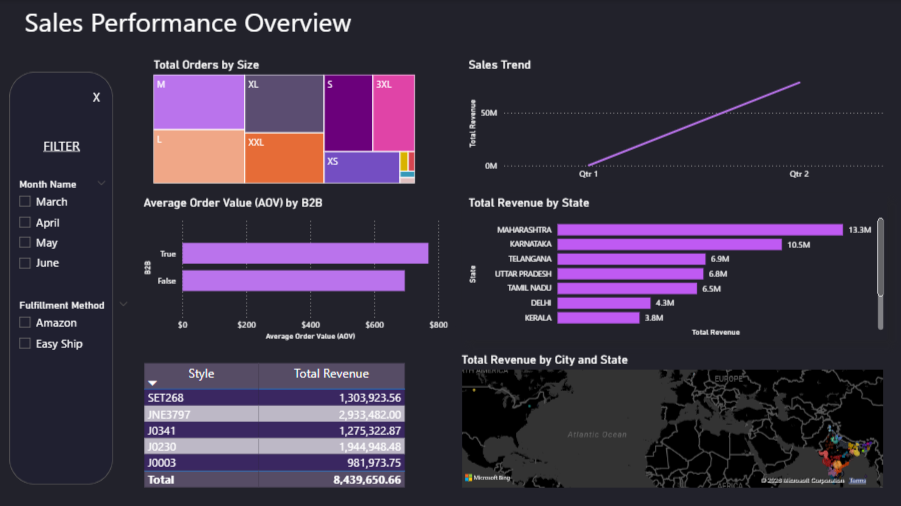

What the dashboard file says about the page in this screenshot:
{"tool":"powerbi","page":{"name":"Executive Sales Overview","canvas":[1280,720],"ordinal":0},"visuals":[{"type":"shape","box":[14.2,102,147.4,585.4],"z":0},{"type":"slicer","fields":{"Values":["DateTable.Month Name"]},"box":[15,248,148.8,151.7],"z":1000},{"type":"slicer","fields":{"Values":["data.Fulfillment Method"]},"box":[15,419.5,180,99.2],"z":2000},{"type":"textbox","box":[31.7,188.3,115,41.7],"z":3000},{"type":"map","fields":{"Category":["data.City","data.State"],"Series":["data.State"],"Size":["data.Total Revenue"]},"box":[650.6,462,608,235.3],"z":4000},{"type":"shape","box":[640.6,462,627.9,38.3],"z":5000},{"type":"lineChart","title":"Sales Trend","fields":{"Category":["DateTable.Date.Variation.Date Hierarchy.Year","DateTable.Date.Variation.Date Hierarchy.Quarter","DateTable.Date.Variation.Date Hierarchy.Month","DateTable.Date.Variation.Date Hierarchy.Day"],"Y":["data.Total Revenue"]},"box":[660.5,82.2,598.1,182.8],"z":6000},{"type":"clusteredBarChart","fields":{"Category":["data.B2B"],"Y":["data.Average Order Value (AOV)"]},"box":[199.8,277.8,440.8,209.8],"z":7000},{"type":"treemap","fields":{"Group":["data.Size"],"Values":["data.Total Orders"]},"box":[214,82.2,379.8,182.8],"z":8000},{"type":"clusteredBarChart","fields":{"Category":["data.State"],"Y":["data.Total Revenue"]},"box":[660.5,277.8,598.1,204.1],"z":9000},{"type":"tableEx","fields":{"Values":["data.Style","data.Total Revenue"]},"box":[199.8,510.2,408.2,198.4],"z":10000},{"type":"textbox","box":[31.2,0,640.6,73.7],"z":11000},{"type":"actionButton","title":"close filter","box":[88.3,113.3,100,40],"z":13500}]}

Visuals, with their boxes in screenshot pixels (x1, y1, x2, y2), scaled from the page's 1280x720 canvas onto the 901x506 screenshot:
shape: rect(10, 72, 114, 483)
slicer - DateTable.Month Name: rect(11, 174, 115, 281)
slicer - data.Fulfillment Method: rect(11, 295, 137, 365)
textbox: rect(22, 132, 103, 162)
map - data.City x data.State: rect(458, 325, 886, 490)
shape: rect(451, 325, 893, 352)
"Sales Trend" lineChart: rect(465, 58, 886, 186)
clusteredBarChart - data.B2B x data.Average Order Value (AOV): rect(141, 195, 451, 343)
treemap - data.Size x data.Total Orders: rect(151, 58, 418, 186)
clusteredBarChart - data.State x data.Total Revenue: rect(465, 195, 886, 339)
tableEx - data.Style x data.Total Revenue: rect(141, 359, 428, 498)
textbox: rect(22, 0, 473, 52)
"close filter" actionButton: rect(62, 80, 133, 108)
